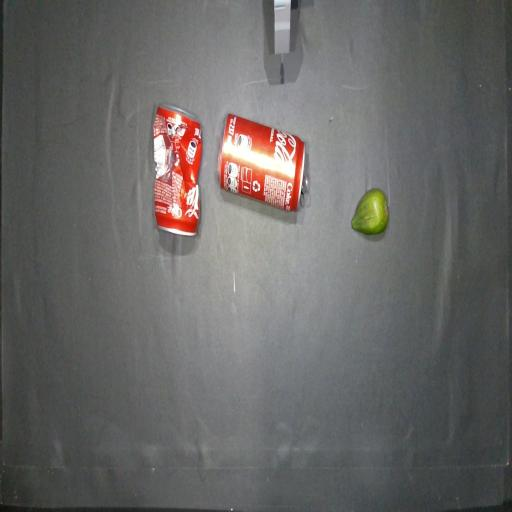higo: (351, 188, 388, 234)
lata: (218, 114, 307, 211)
lata_defectuoso: (153, 106, 202, 235)
